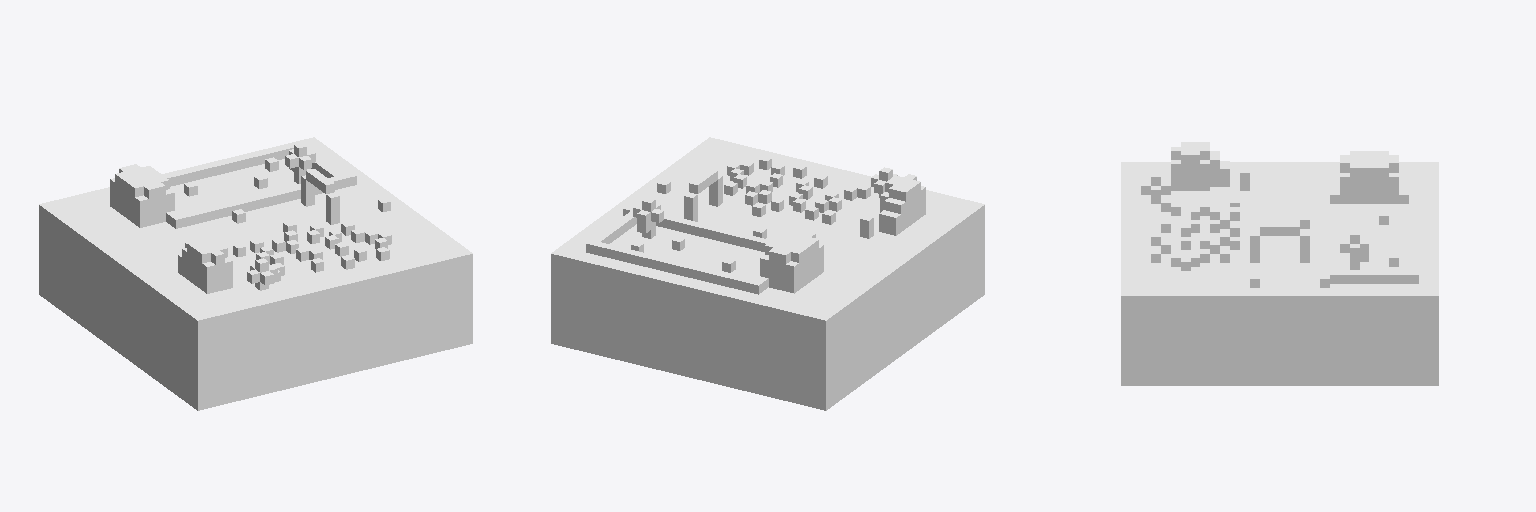
File: Overworld_Land_17.obj
The picture shows the model from 3 angles: view 1: azimuth 30°, elevation 25°; view 2: azimuth 150°, elevation 25°; view 3: azimuth 270°, elevation 25°; orthographic projection.
Parts seen in each view (by area): view 1: object 1; view 2: object 1; view 3: object 1.
Part boxes in pixels (bbox=[...]): object 1: bbox=[39, 137, 472, 410]; object 1: bbox=[551, 137, 984, 410]; object 1: bbox=[1121, 142, 1438, 385].
Size of the model in its own units: 3.2 by 1.4 by 3.2.